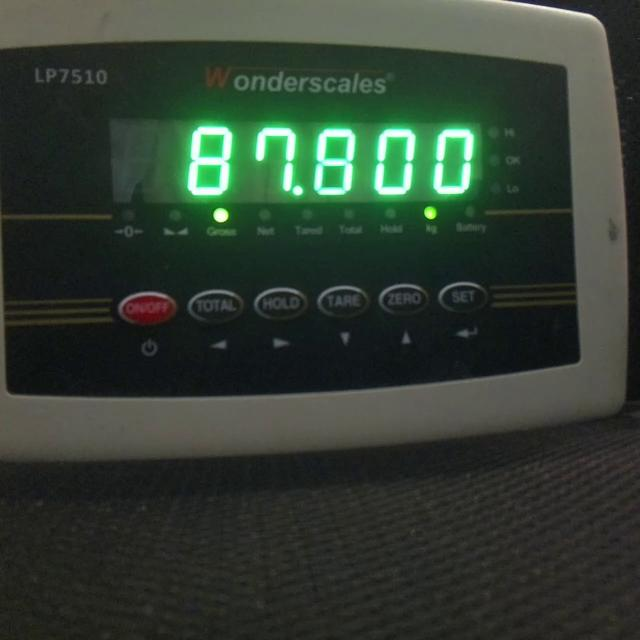.: (291, 184, 304, 196)
0: (374, 128, 416, 195), (433, 128, 474, 194)
7: (255, 126, 298, 194)
8: (187, 125, 232, 195), (313, 127, 356, 195)
